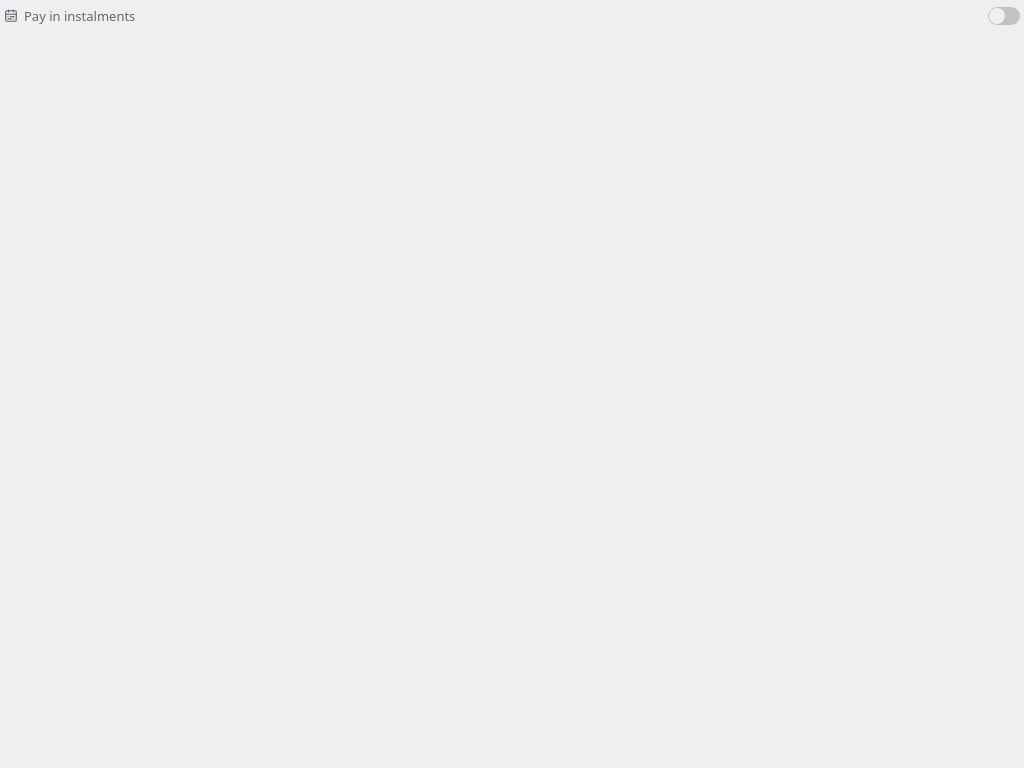
Scenario: Cancel on the first switch-on turns instalments off again
Click the switch named "Pay in instalments". click: x=1004, y=16
box: left=988, top=7, right=1020, bottom=25
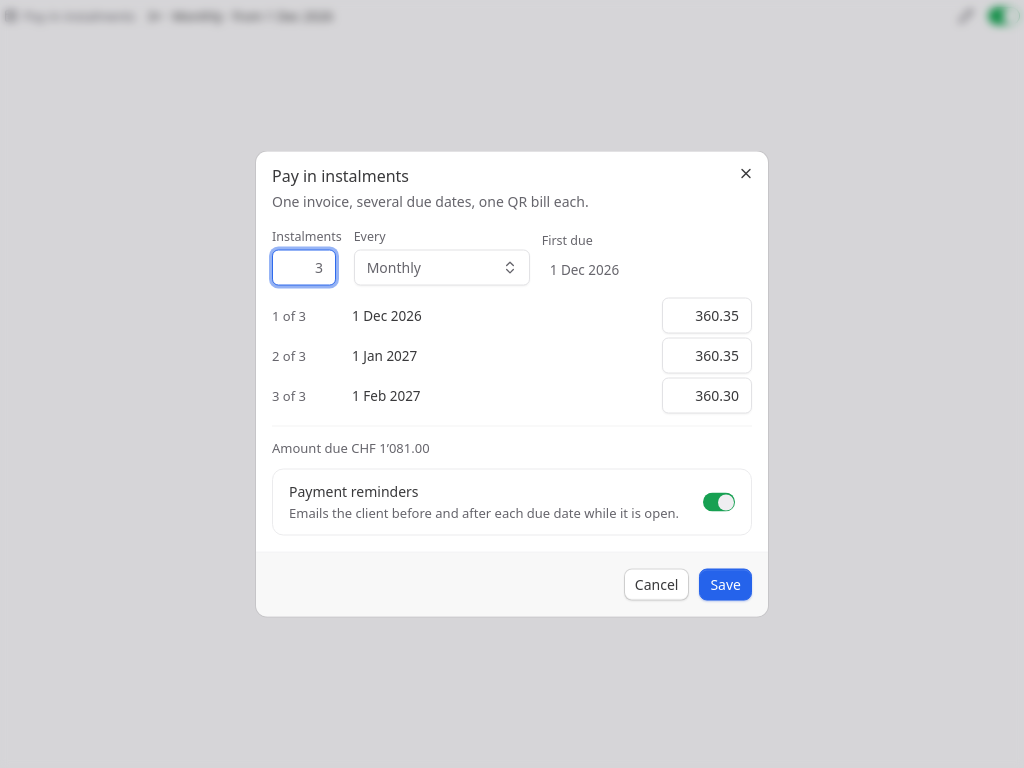
Click the button "Cancel". click: x=657, y=584
box: left=624, top=568, right=689, bottom=600
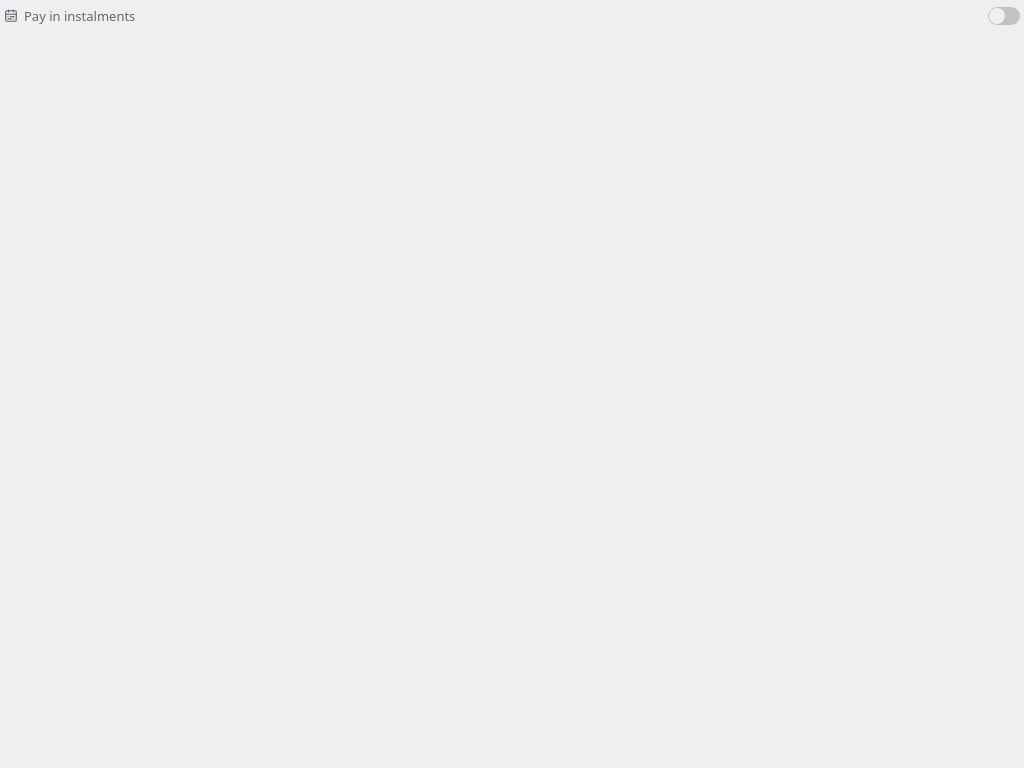
Expected: the switch named "Pay in instalments" is not checked, left=988, top=7, right=1020, bottom=25
Expected: the dialog is gone
Expected: the button "Edit instalments" is gone
